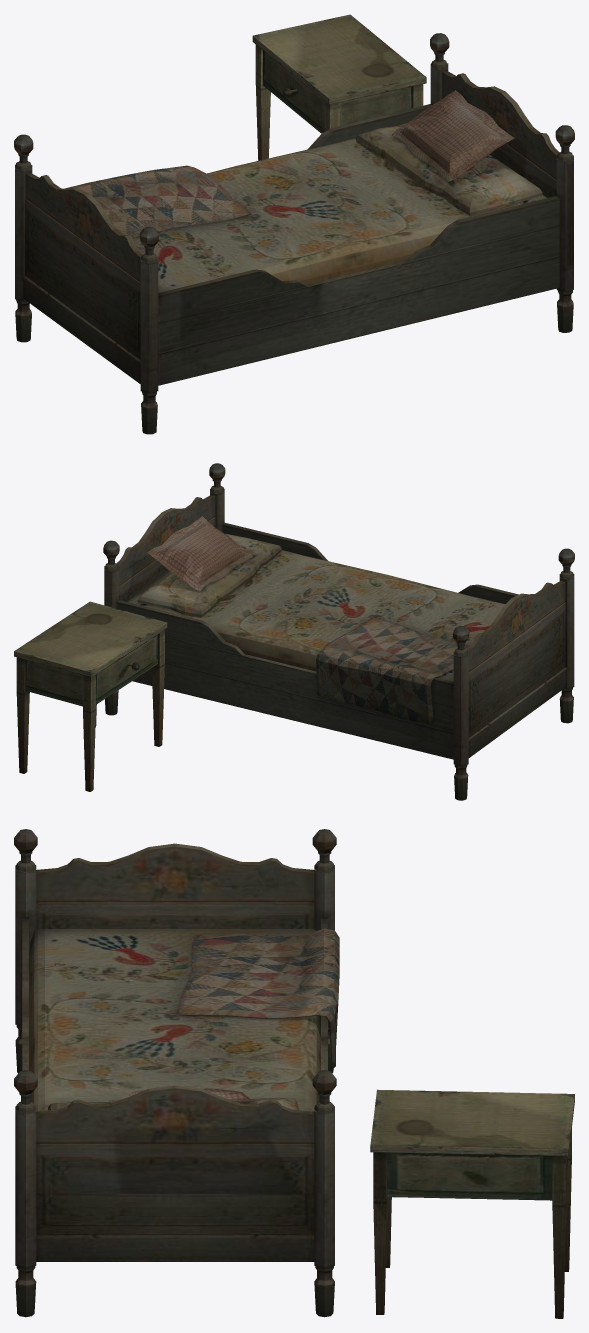
Rendered from old bed.fbx.
3 views of the same model, one above another, from view 1: azimuth 30°, elevation 25°; view 2: azimuth 150°, elevation 25°; view 3: azimuth 270°, elevation 25° (orthographic). The views are drawn at different scales.
Visible parts, largest first — view 1: gr_7_1_1, gr_1_1_1, gr_2_1_1; view 2: gr_7_1_1, gr_1_1_1, gr_2_1_1; view 3: gr_7_1_1, gr_1_1_1.
Part boxes in pixels (bbox=[...]): gr_7_1_1: bbox=[14, 33, 574, 434]; gr_1_1_1: bbox=[252, 14, 426, 160]; gr_2_1_1: bbox=[391, 90, 514, 181]; gr_7_1_1: bbox=[103, 463, 574, 800]; gr_1_1_1: bbox=[14, 601, 167, 791]; gr_2_1_1: bbox=[147, 516, 252, 591]; gr_7_1_1: bbox=[14, 829, 339, 1317]; gr_1_1_1: bbox=[370, 1089, 574, 1318].
Bounding box in the file's own units: 2.25 × 1 × 2.1.
